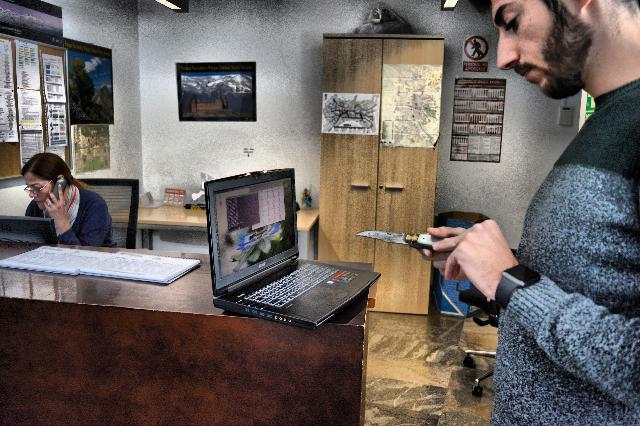knife: (349, 222, 447, 254)
